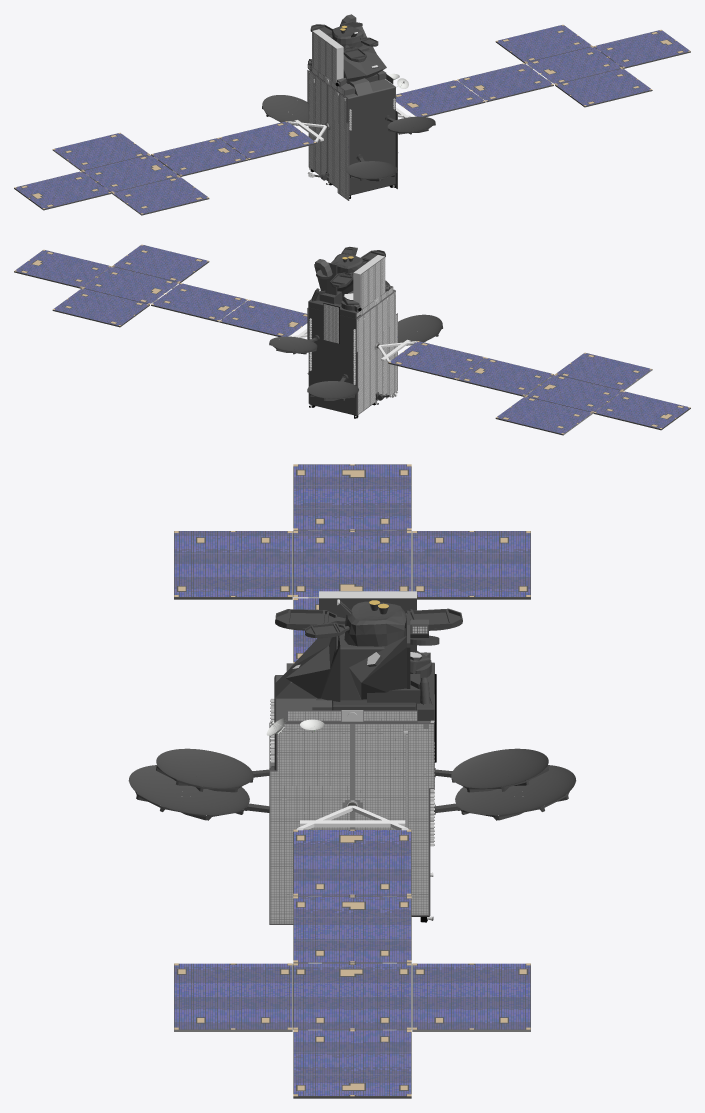
File: Lunar Laser Communications Demonstration (LLCD).glb
3 views of the same model, one above another, from view 1: azimuth 30°, elevation 25°; view 2: azimuth 150°, elevation 25°; view 3: azimuth 270°, elevation 25° (orthographic). The views are drawn at different scales.
Visible parts, largest first — view 1: Layer_0; view 2: Layer_0; view 3: Layer_0.
Part boxes in pixels (<box>): Layer_0: <box>14,14,690,215</box>; Layer_0: <box>14,244,690,435</box>; Layer_0: <box>128,464,576,1098</box>.
Bounding box in the file's own units: 268 × 61.27 × 80.37.
